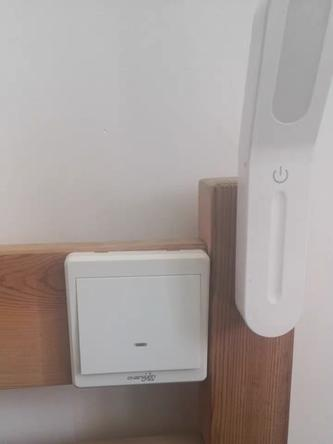switch: (71, 266, 209, 377)
